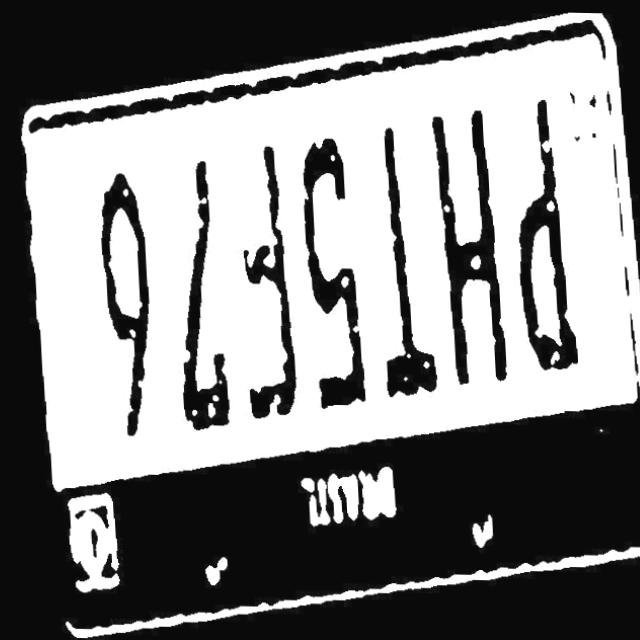5: (288, 120, 366, 416)
6: (87, 163, 160, 449)
7: (162, 153, 233, 443)
f: (224, 142, 303, 432)
h: (421, 104, 511, 397)
p: (502, 93, 585, 377)
t: (355, 116, 440, 406)
